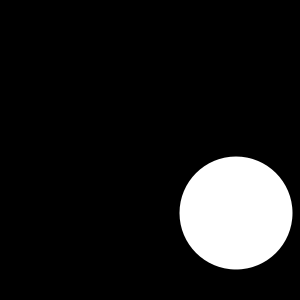rectangle: (179, 156, 292, 270)
